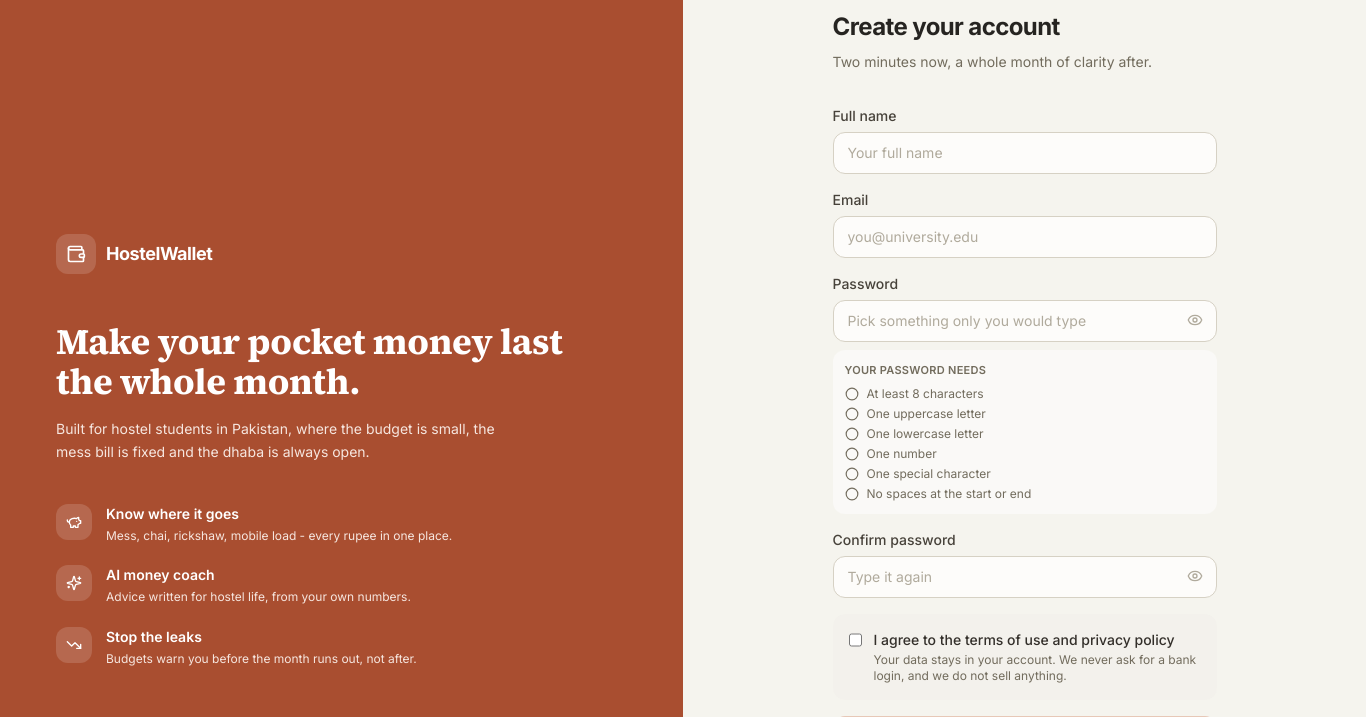
Test case: what the form refuses › keeps submit disabled until everything is valid
The width and height of the screenshot is (1366, 717).
In the field labelled "Full name": (1024, 153) [832,132,1216,174], type "Abdul Haseeb"
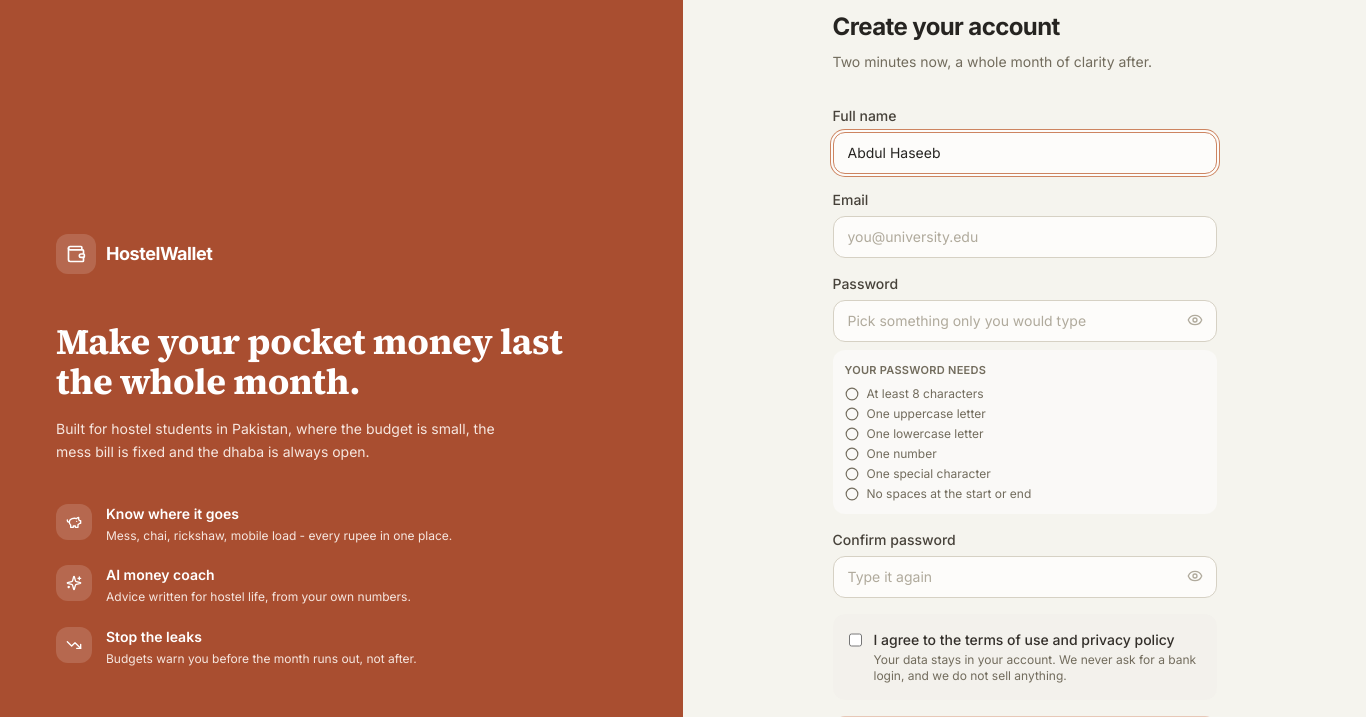
In the field labelled "Email": (1024, 237) [832,216,1216,258], type "abdul@university.edu"
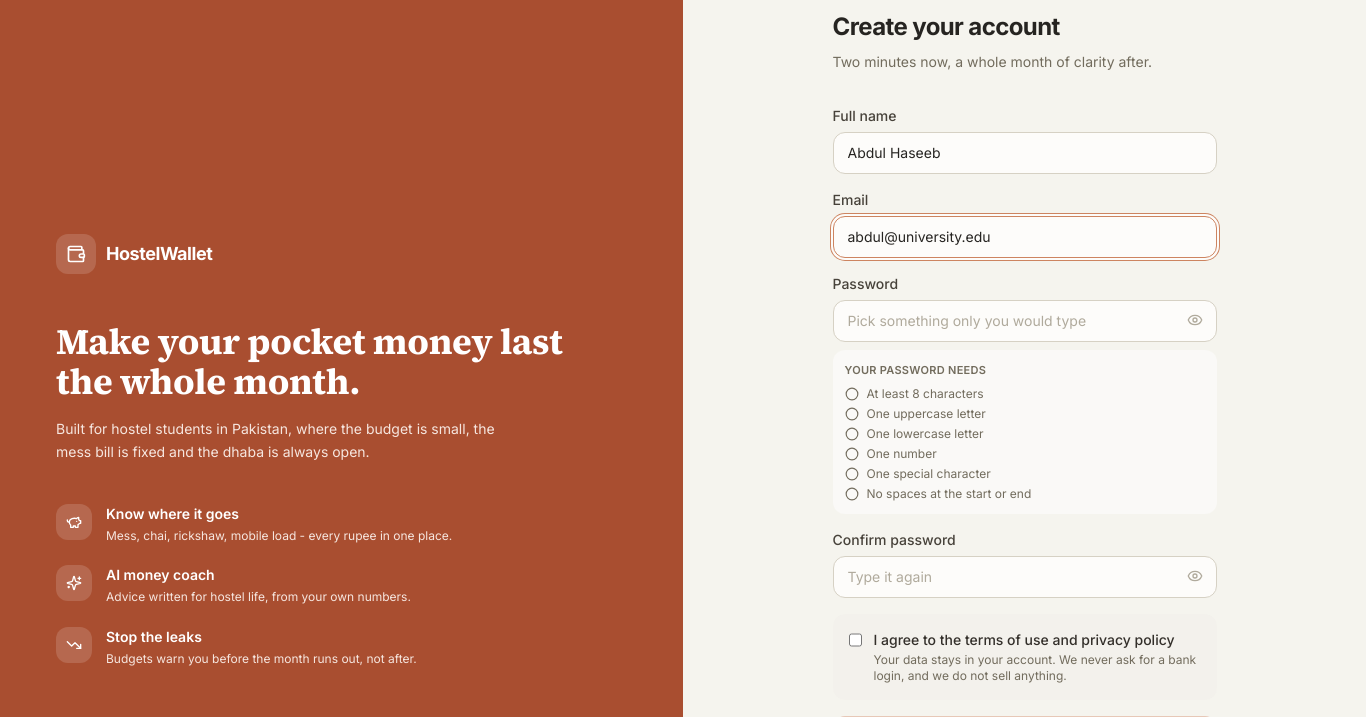
In the password field labelled "Password": (1024, 321) [832,300,1216,342], type "Hostel1!"
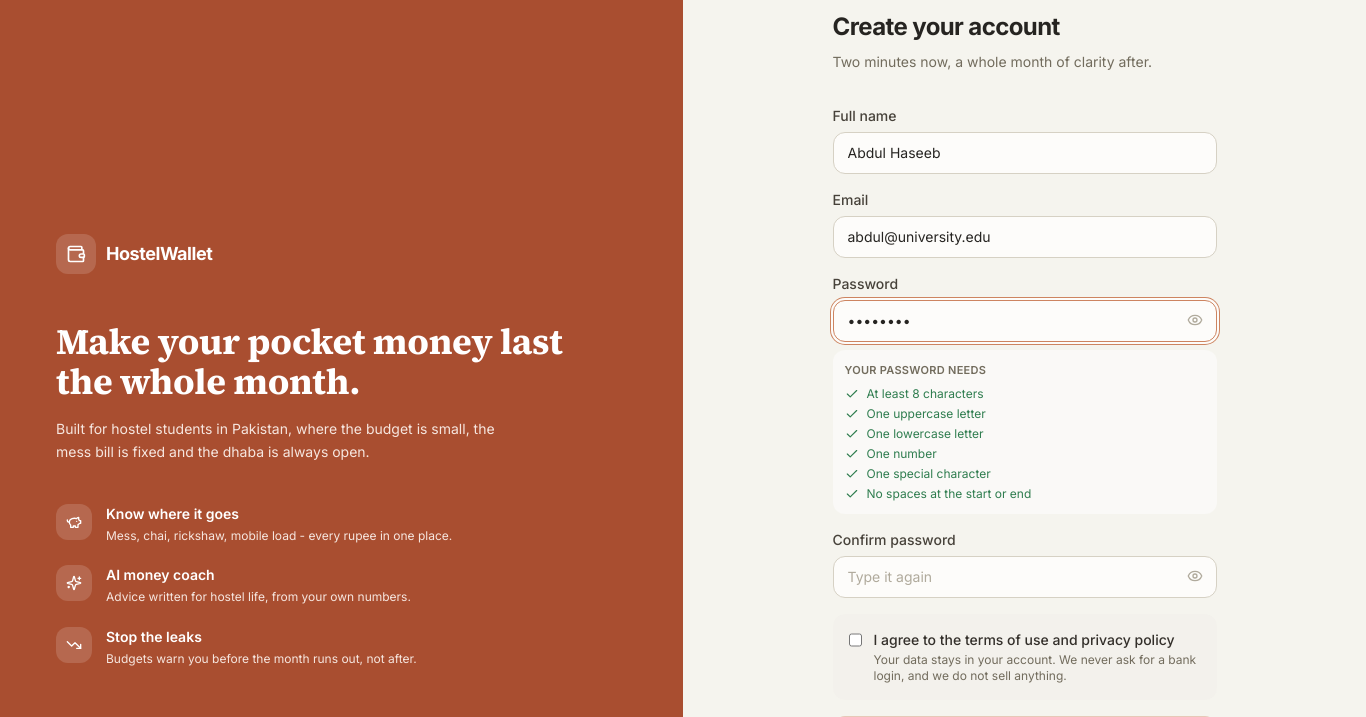
In the password field labelled "Confirm password": (1024, 577) [832,556,1216,598], type "Hostel1!"
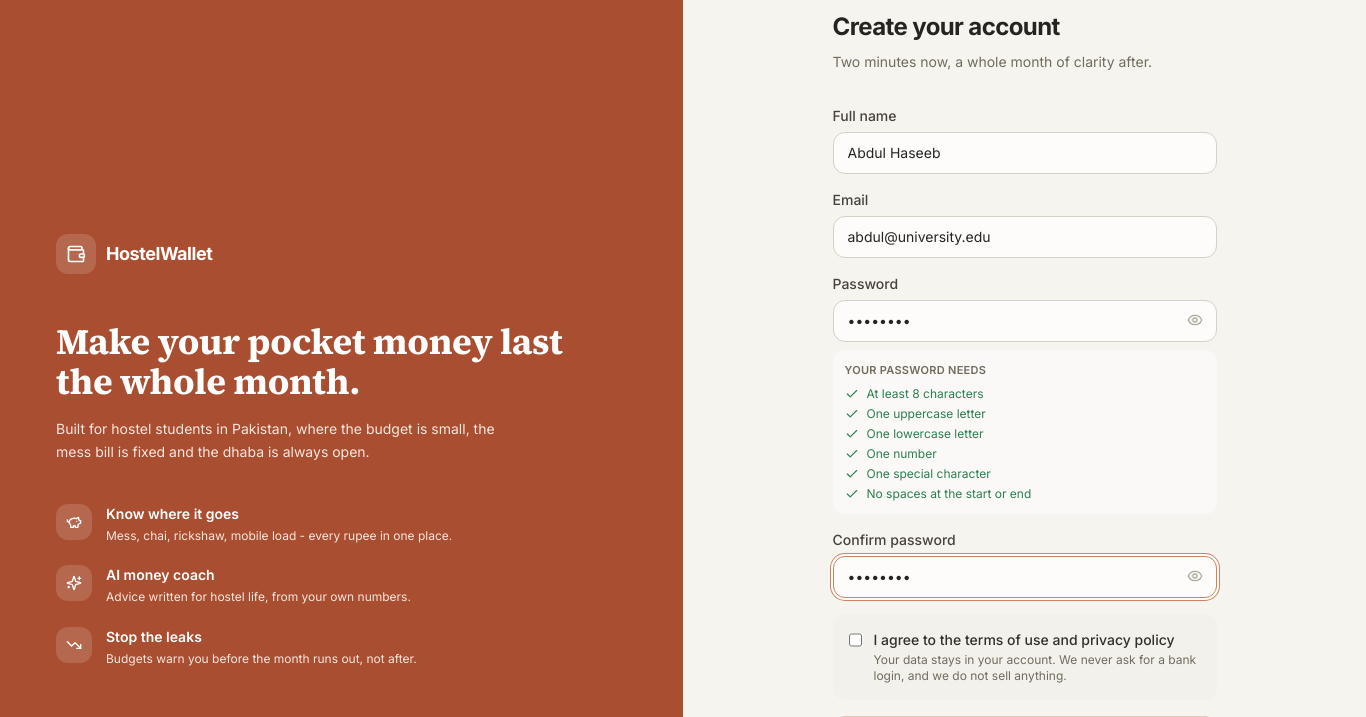
Click the checkbox: (855, 640) [848,632,862,648]
(page scrolled)
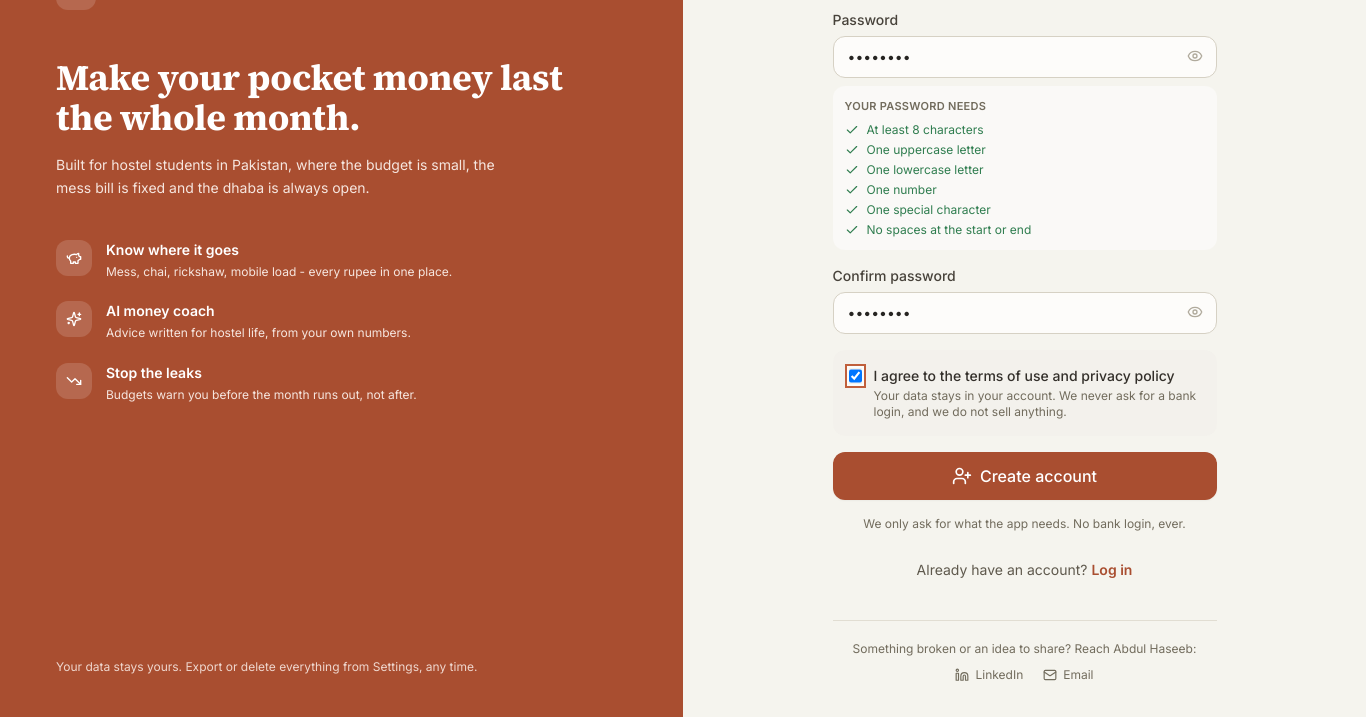
Result: the button "Create account" is enabled at [832,452,1216,500]
